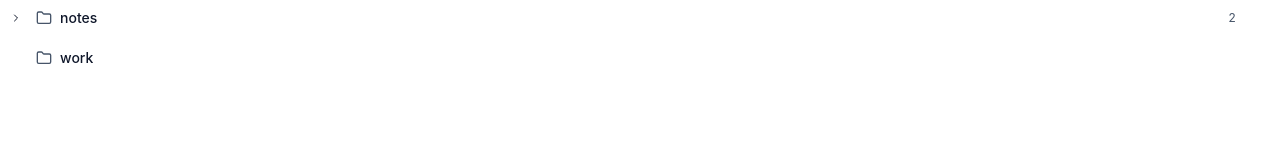
Scenario: FolderTree › expands and collapses folders via the chevron and remembers it
Click the 1st button named "Expand folder". click: [16, 18]
box: left=8, top=10, right=24, bottom=26
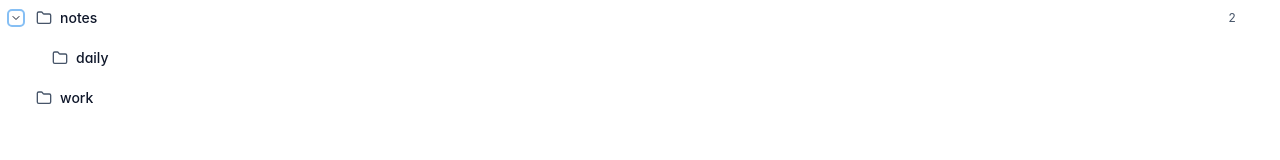
Expected: the list item named "Open folder notes" is expanded, left=0, top=0, right=1279, bottom=36
Expected: the button with aria-label "Open folder daily" is shown, left=48, top=46, right=1240, bottom=70
Click the button named "Collapse folder". click: [16, 18]
box: left=8, top=10, right=24, bottom=26
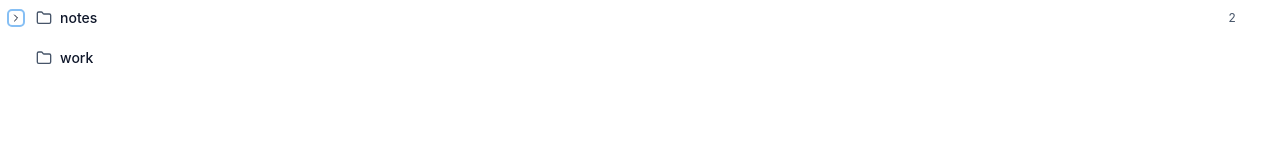
Expected: the text "Open folder daily" is gone
